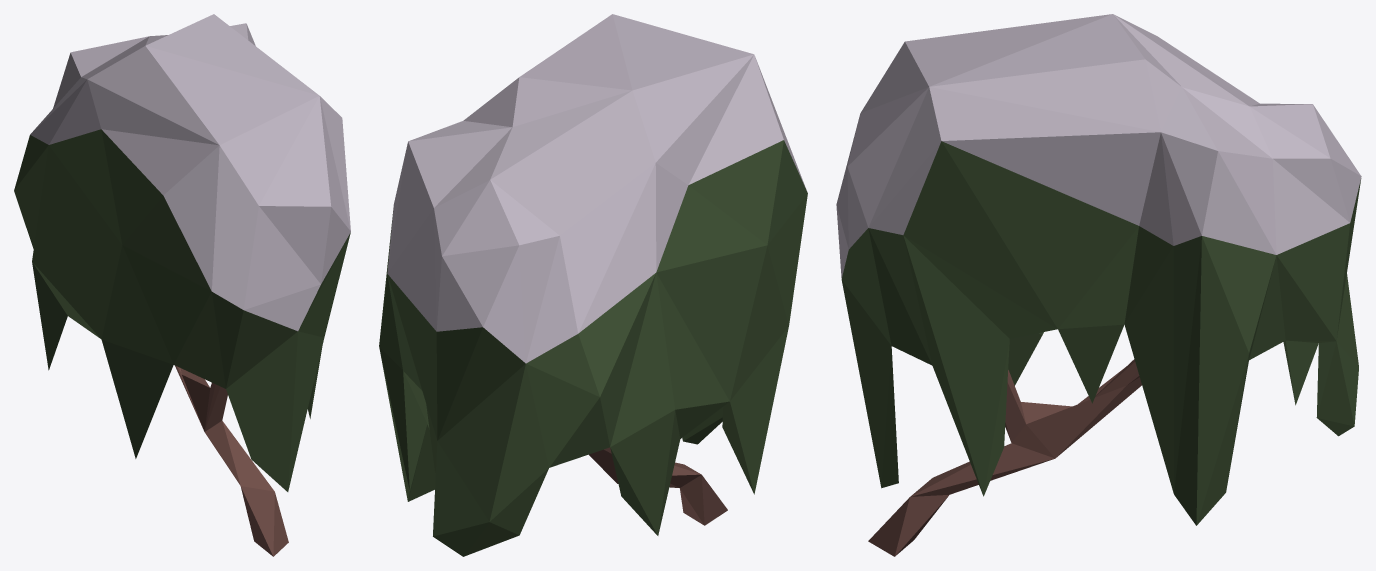
File: Willow_Snow_2.lod3.glb
The picture shows the model from 3 angles, left to right: view 1: azimuth 30°, elevation 25°; view 2: azimuth 150°, elevation 25°; view 3: azimuth 270°, elevation 25°; orthographic projection. The views are drawn at different scales.
Parts seen in each view (by area): view 1: Willow_Snow_2; view 2: Willow_Snow_2; view 3: Willow_Snow_2.
Boxes of the visible parts, x1=… form: Willow_Snow_2: x1=14, y1=14, x2=350, y2=556; Willow_Snow_2: x1=379, y1=14, x2=807, y2=556; Willow_Snow_2: x1=836, y1=14, x2=1361, y2=556.
Bounding box in the file's own units: 1.95 × 3.43 × 3.17.
